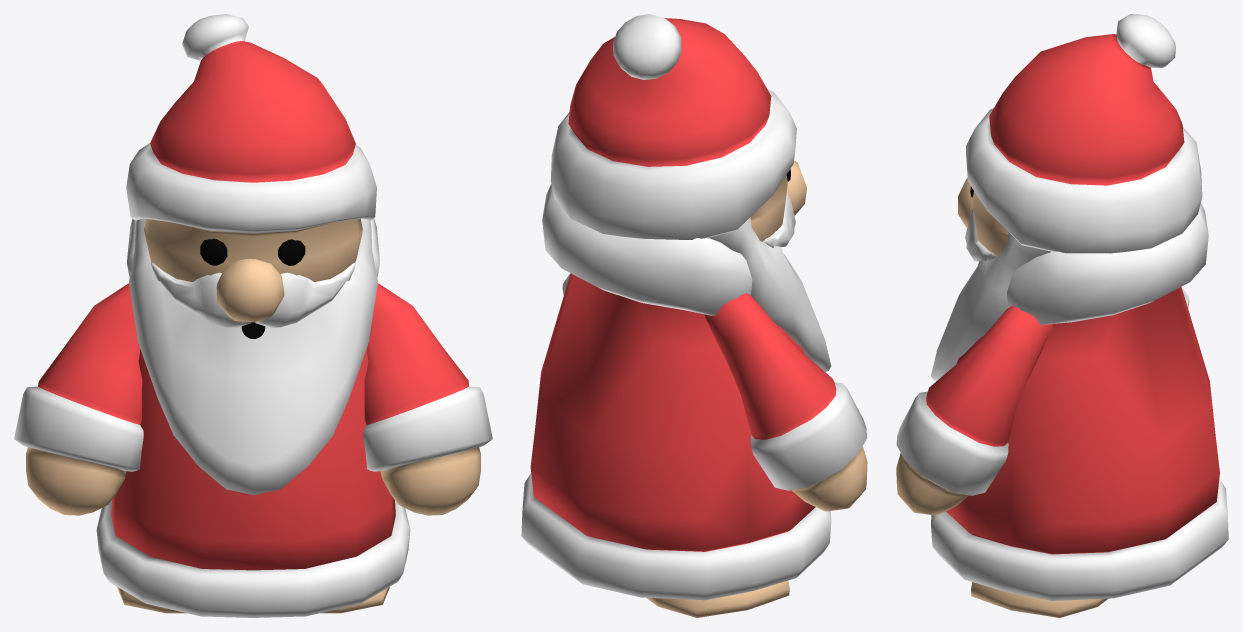
Rendered from Toy172.fbx.
The picture shows the model from 3 angles, left to right: view 1: azimuth 30°, elevation 25°; view 2: azimuth 150°, elevation 25°; view 3: azimuth 270°, elevation 25°; orthographic projection. The views are drawn at different scales.
Parts seen in each view (by area): view 1: Toy172; view 2: Toy172; view 3: Toy172.
Boxes of the visible parts, <box> form: Toy172: <box>14,14,492,617</box>; Toy172: <box>521,14,867,617</box>; Toy172: <box>896,14,1228,617</box>.
Size of the model in its own units: 0.1466 by 0.2081 by 0.1161.
